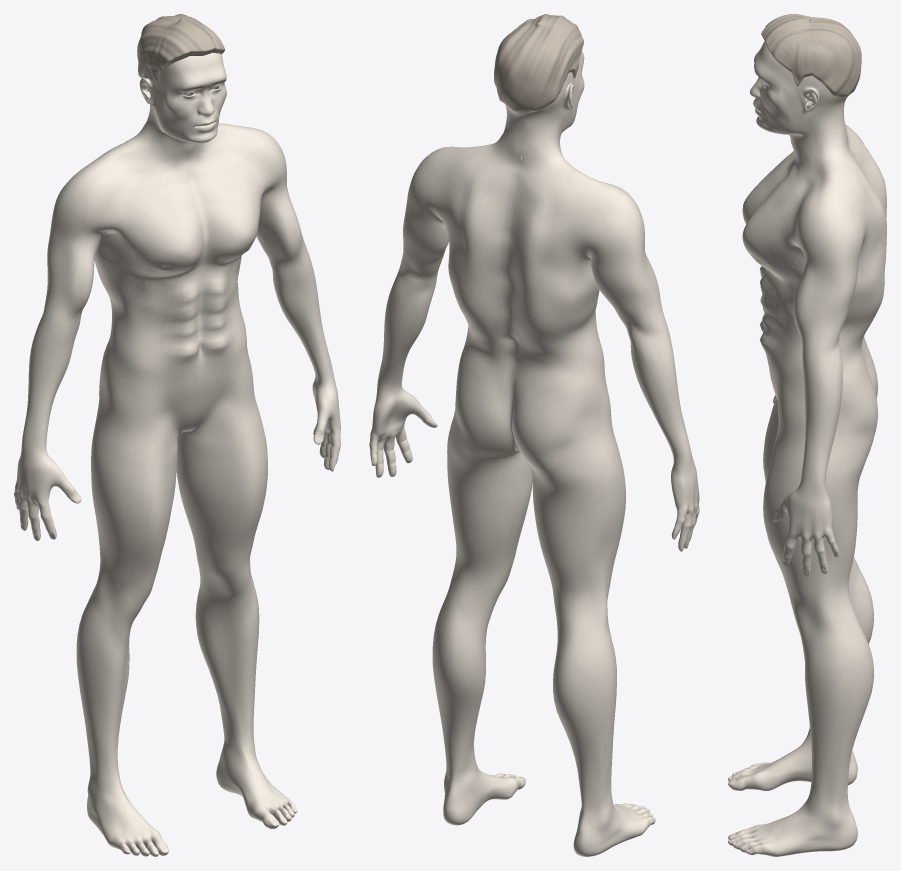
File: FitCheck-Muscles.glb
3 views of the same model, side by side, from view 1: azimuth 30°, elevation 25°; view 2: azimuth 150°, elevation 25°; view 3: azimuth 270°, elevation 25° (orthographic).
Parts seen in each view (by area): view 1: fitcheck_body, muscle__obliques__R, muscle__vastus_lateralis__R, muscle__rectus_femoris__R, portrait_hair, muscle__abs__R, muscle__chest_middle__R, muscle__rectus_femoris__L, muscle__forearm_flexors__L, muscle__chest_middle__L, muscle__abs__L, muscle__forearm_flexors__R (+18 smaller); view 2: fitcheck_body, portrait_hair, muscle__gluteus_maximus__L, muscle__gluteus_maximus__R, muscle__lats__R, muscle__hamstrings_medial__L, muscle__hamstrings_lateral__R, muscle__forearm_extensors__R, muscle__hamstrings_medial__R, muscle__gastrocnemius_medial__L, muscle__gluteus_medius__R, muscle__gastrocnemius_lateral__R (+29 smaller); view 3: fitcheck_body, portrait_hair, muscle__vastus_lateralis__L, muscle__hamstrings_lateral__L, muscle__obliques__L, muscle__lats__L, muscle__gluteus_medius__L, muscle__chest_middle__L, muscle__brachioradialis__L, muscle__gluteus_maximus__L, muscle__rectus_femoris__L, muscle__abs__L (+22 smaller).
Part boxes in pixels (left/top/right/bottom): fitcheck_body: left=14, top=52, right=340, bottom=856; muscle__obliques__R: left=105, top=294, right=169, bottom=399; muscle__vastus_lateralis__R: left=80, top=441, right=139, bottom=587; muscle__rectus_femoris__R: left=127, top=432, right=167, bottom=582; portrait_hair: left=137, top=14, right=224, bottom=81; muscle__abs__R: left=162, top=278, right=198, bottom=398; muscle__chest_middle__R: left=129, top=204, right=203, bottom=266; muscle__rectus_femoris__L: left=223, top=416, right=266, bottom=556; muscle__forearm_flexors__L: left=282, top=263, right=331, bottom=382; muscle__chest_middle__L: left=205, top=176, right=259, bottom=252; muscle__abs__L: left=205, top=271, right=232, bottom=394; muscle__forearm_flexors__R: left=35, top=315, right=79, bottom=451; fitcheck_body: left=369, top=24, right=699, bottom=856; portrait_hair: left=494, top=14, right=583, bottom=113; muscle__gluteus_maximus__L: left=447, top=394, right=518, bottom=491; muscle__gluteus_maximus__R: left=512, top=403, right=603, bottom=515; muscle__lats__R: left=517, top=281, right=602, bottom=392; muscle__hamstrings_medial__L: left=459, top=481, right=509, bottom=616; muscle__hamstrings_lateral__R: left=563, top=497, right=603, bottom=647; muscle__forearm_extensors__R: left=630, top=333, right=685, bottom=464; muscle__hamstrings_medial__R: left=533, top=488, right=573, bottom=640; muscle__gastrocnemius_medial__L: left=449, top=622, right=488, bottom=720; muscle__gluteus_medius__R: left=541, top=387, right=598, bottom=455; muscle__gastrocnemius_lateral__R: left=561, top=666, right=604, bottom=749; fitcheck_body: left=728, top=23, right=884, bottom=856; portrait_hair: left=761, top=14, right=861, bottom=97; muscle__vastus_lateralis__L: left=776, top=447, right=835, bottom=599; muscle__hamstrings_lateral__L: left=827, top=498, right=862, bottom=633; muscle__obliques__L: left=773, top=305, right=804, bottom=400; muscle__lats__L: left=839, top=289, right=884, bottom=372; muscle__gluteus_medius__L: left=835, top=385, right=875, bottom=437; muscle__chest_middle__L: left=742, top=196, right=789, bottom=260; muscle__brachioradialis__L: left=810, top=337, right=835, bottom=426; muscle__gluteus_maximus__L: left=835, top=382, right=877, bottom=501; muscle__rectus_femoris__L: left=763, top=435, right=788, bottom=588; muscle__abs__L: left=759, top=269, right=779, bottom=386.
Bounding box in the file's own units: 0.7498 × 1.81 × 0.3271.
